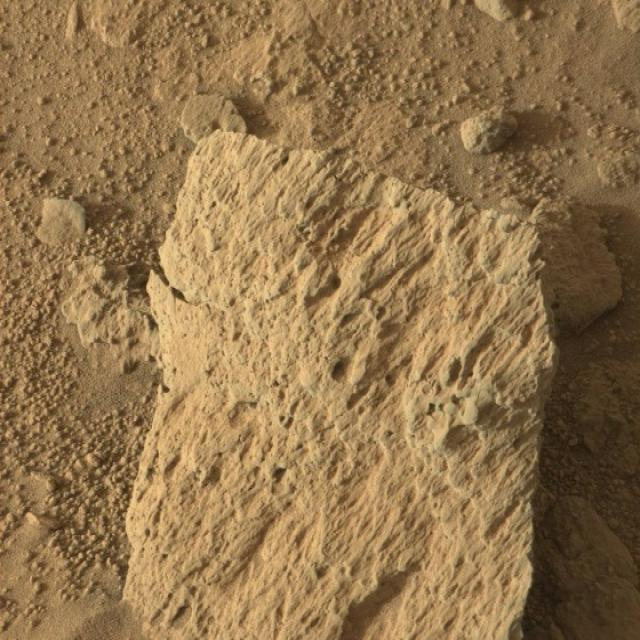rock: (128, 128, 562, 640)
